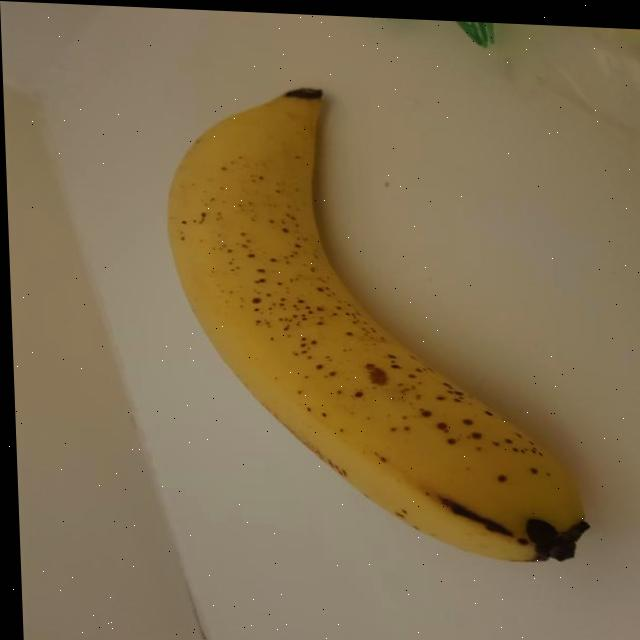banana: (156, 78, 595, 576)
